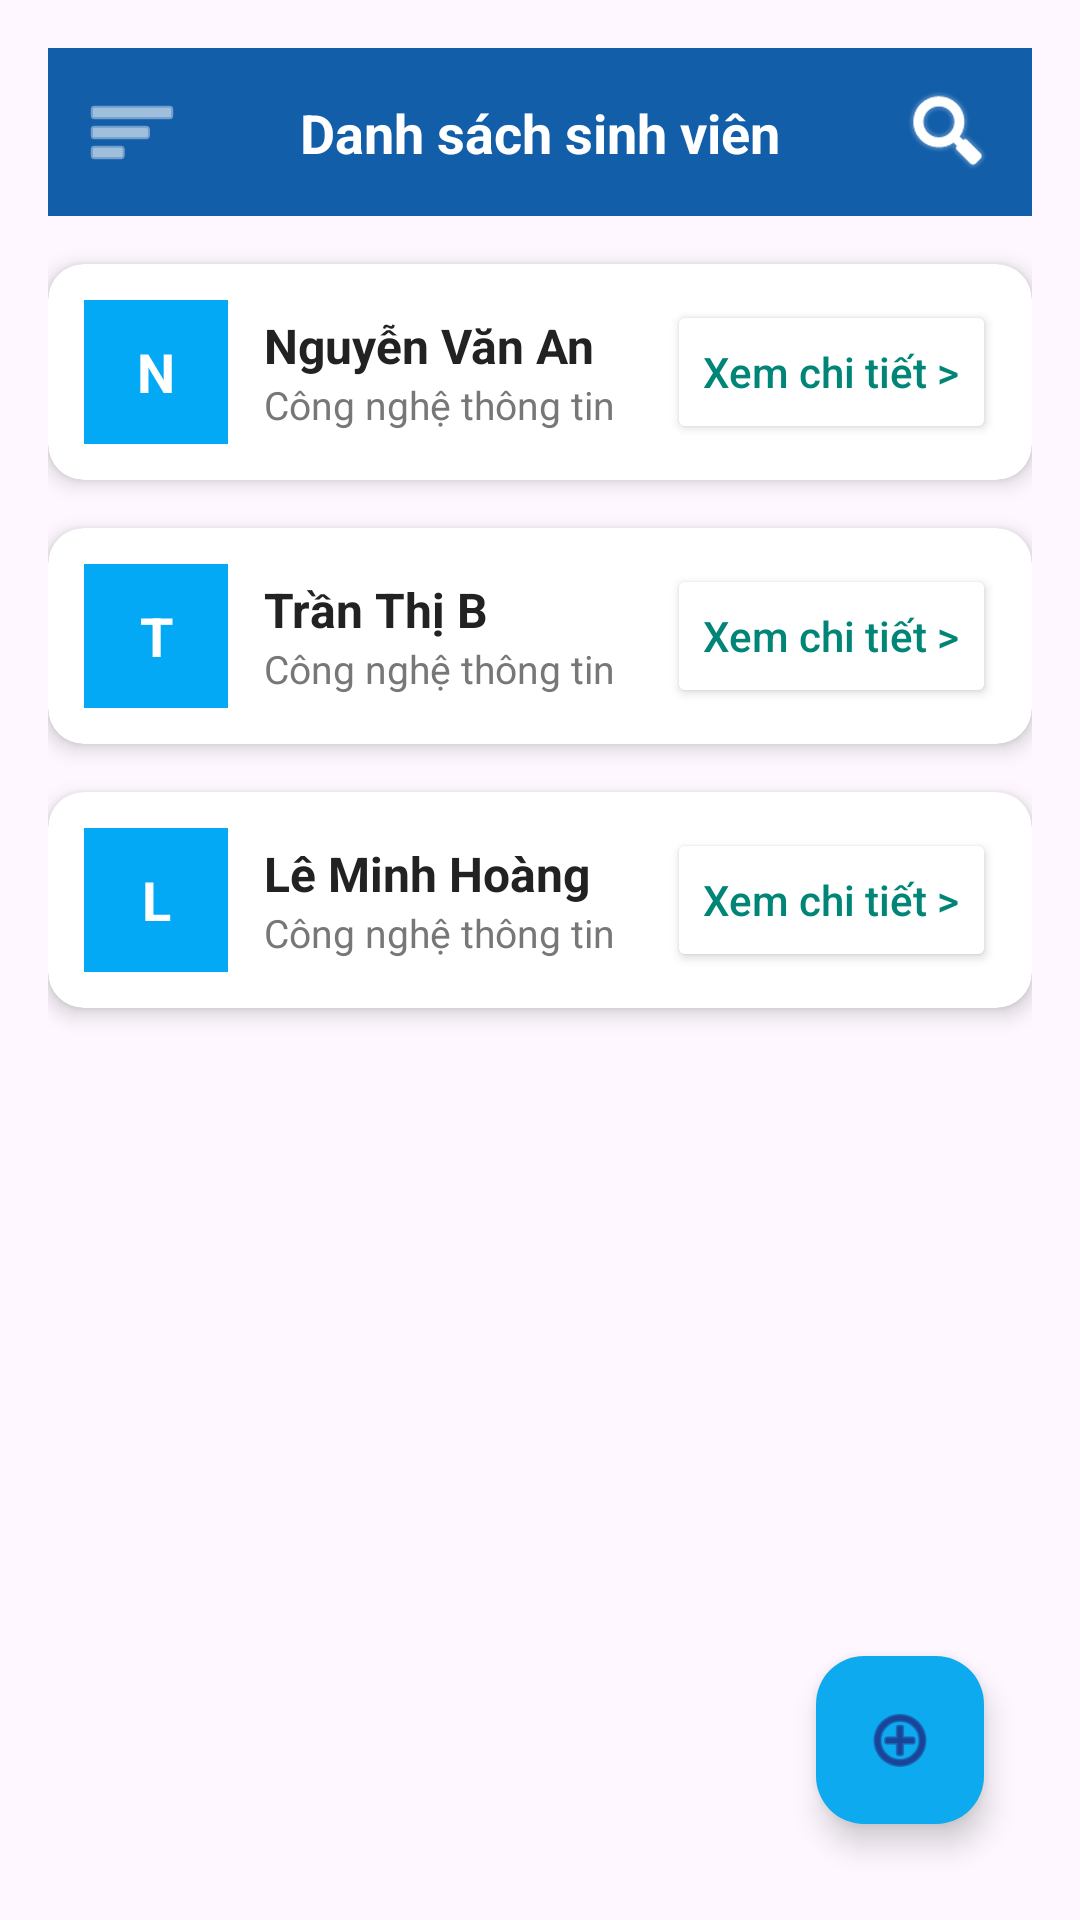

Locate icon controls on the screen. Image size 1080*1920, boxes as (x1, y1, x2, y2).
Sắp xếp: (91, 106, 173, 159)
Thêm sinh viên: (816, 1656, 984, 1824)
Tìm kiếm: (910, 93, 984, 167)
